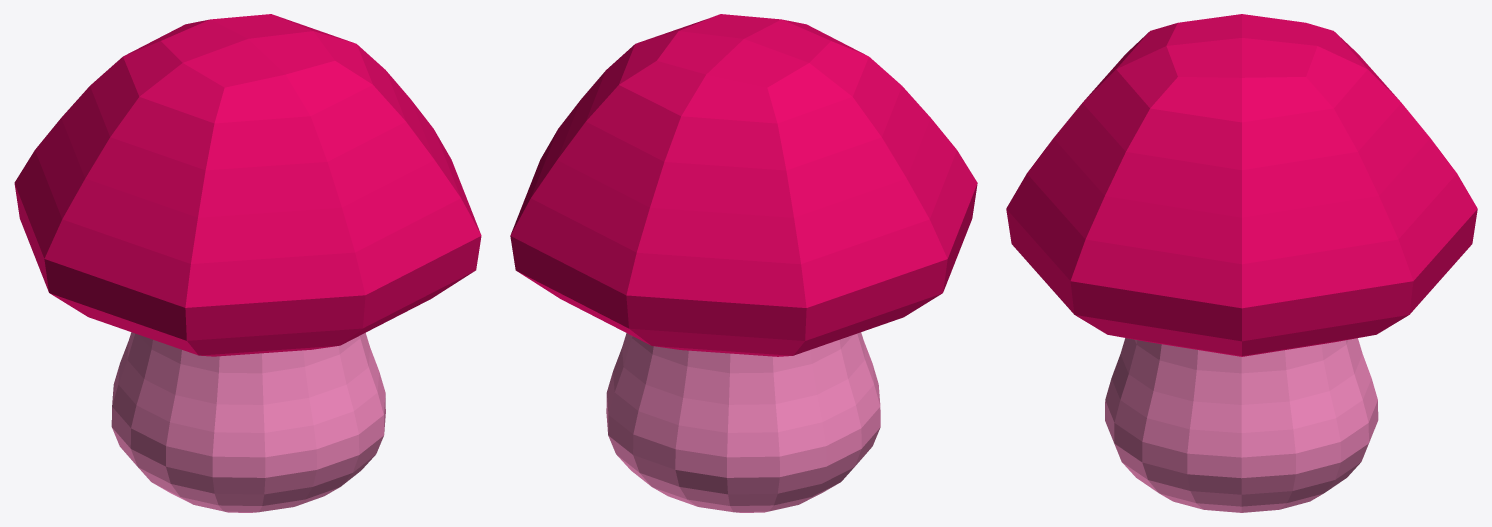
File: hongo.fbx
The picture shows the model from 3 angles, left to right: view 1: azimuth 30°, elevation 25°; view 2: azimuth 150°, elevation 25°; view 3: azimuth 270°, elevation 25°; orthographic projection.
Visible parts, largest first — view 1: HongoCabeza, HongoTallo; view 2: HongoCabeza, HongoTallo; view 3: HongoCabeza, HongoTallo.
Part boxes in pixels (x1,y1,x2,y2): HongoCabeza: [14, 14, 481, 356]; HongoTallo: [111, 332, 385, 512]; HongoCabeza: [510, 14, 977, 356]; HongoTallo: [606, 332, 880, 512]; HongoCabeza: [1006, 14, 1477, 356]; HongoTallo: [1105, 338, 1378, 512].
Size of the model in its own units: 71.3 by 76.22 by 71.3.
